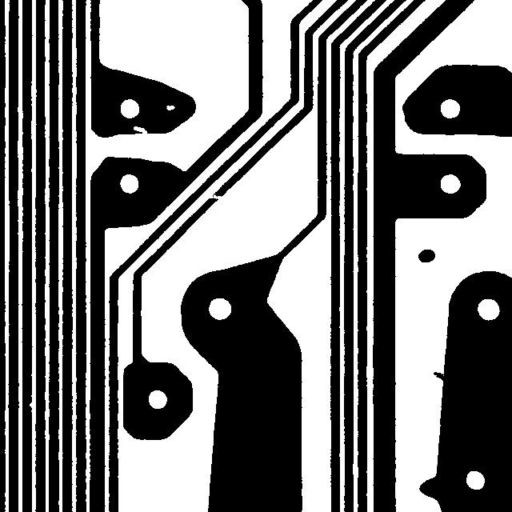copper: (410, 242, 442, 270)
mousebite: (126, 118, 154, 142)
open: (198, 186, 230, 206)
pin-hole: (158, 98, 182, 118)
spur: (426, 364, 458, 393)
